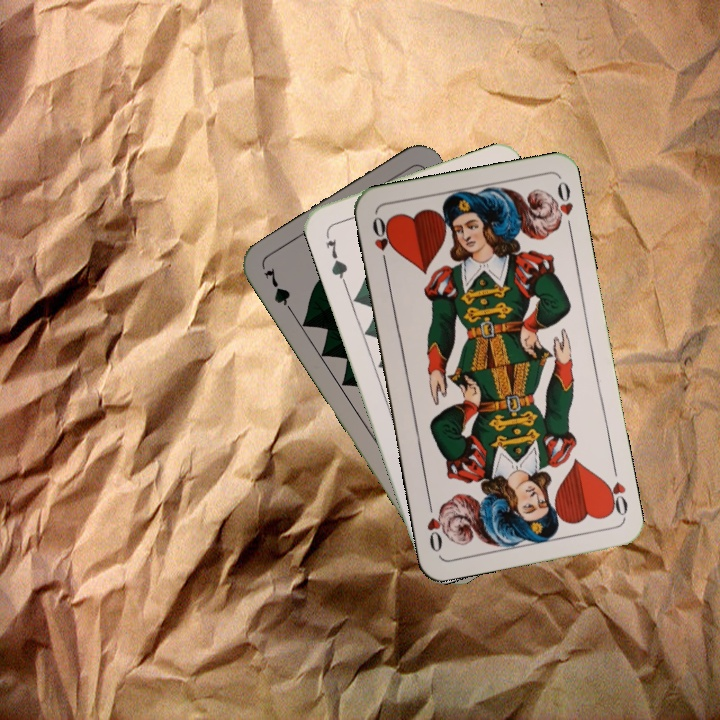G7: (260, 263, 298, 319), (321, 235, 350, 285)
HO: (600, 462, 631, 520), (368, 212, 395, 270)
